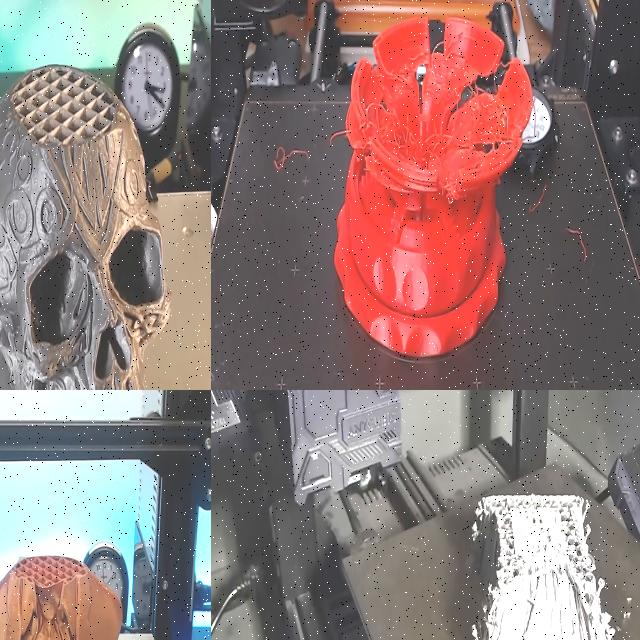spaghetti: (344, 20, 516, 179), (272, 145, 311, 189), (566, 227, 592, 265), (530, 183, 550, 214)
